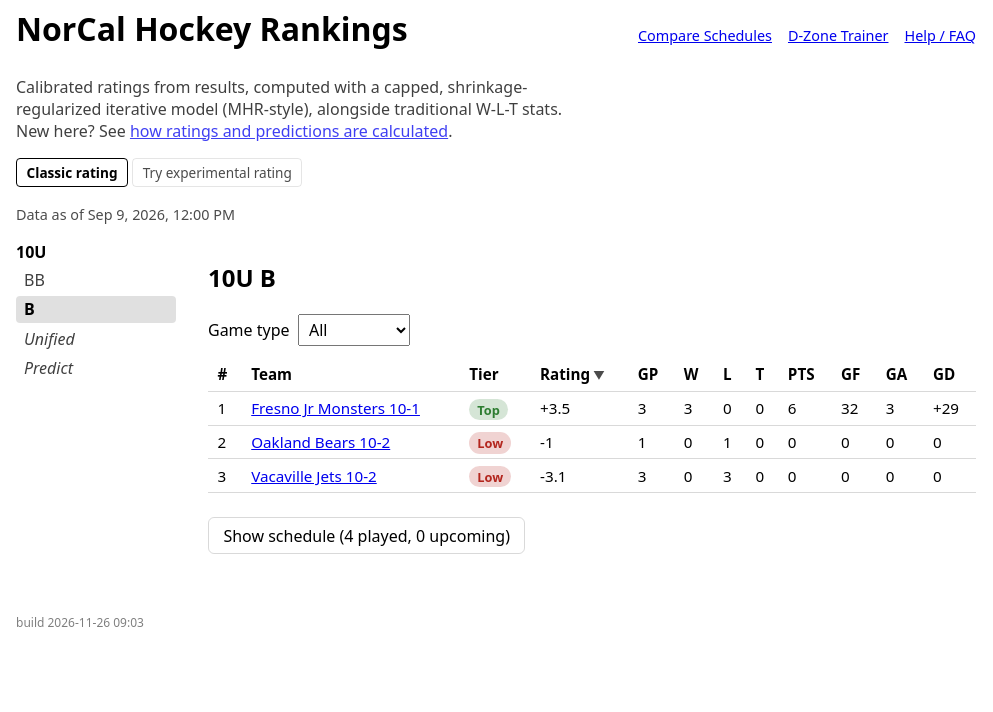
App › shows a rating block per division for a team rated in more than one, each linking to its own division
The width and height of the screenshot is (993, 712).
Click the link "Oakland Bears 10-2". click: click(321, 442)
box: x1=251 y1=432 x2=390 y2=452
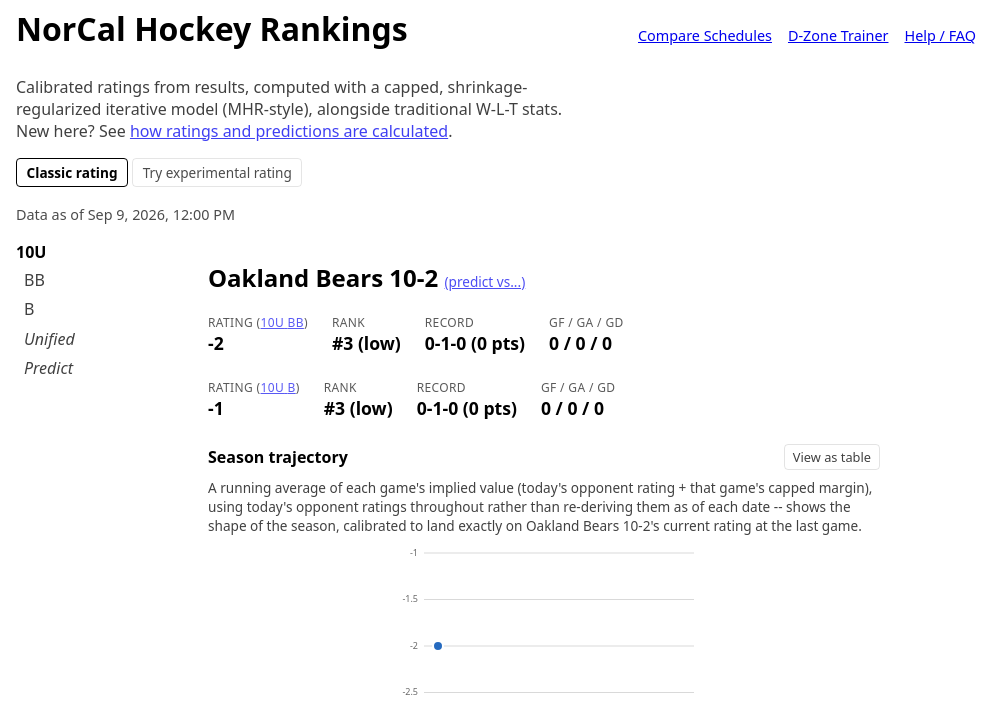
Expected: the heading "Oakland Bears 10-2 (predict vs...)" is shown, x1=208 y1=261 x2=525 y2=294
Expected: the text "Rating ( 10U BB )" is shown 2 times, x1=208 y1=314 x2=308 y2=331; x1=208 y1=379 x2=300 y2=396
